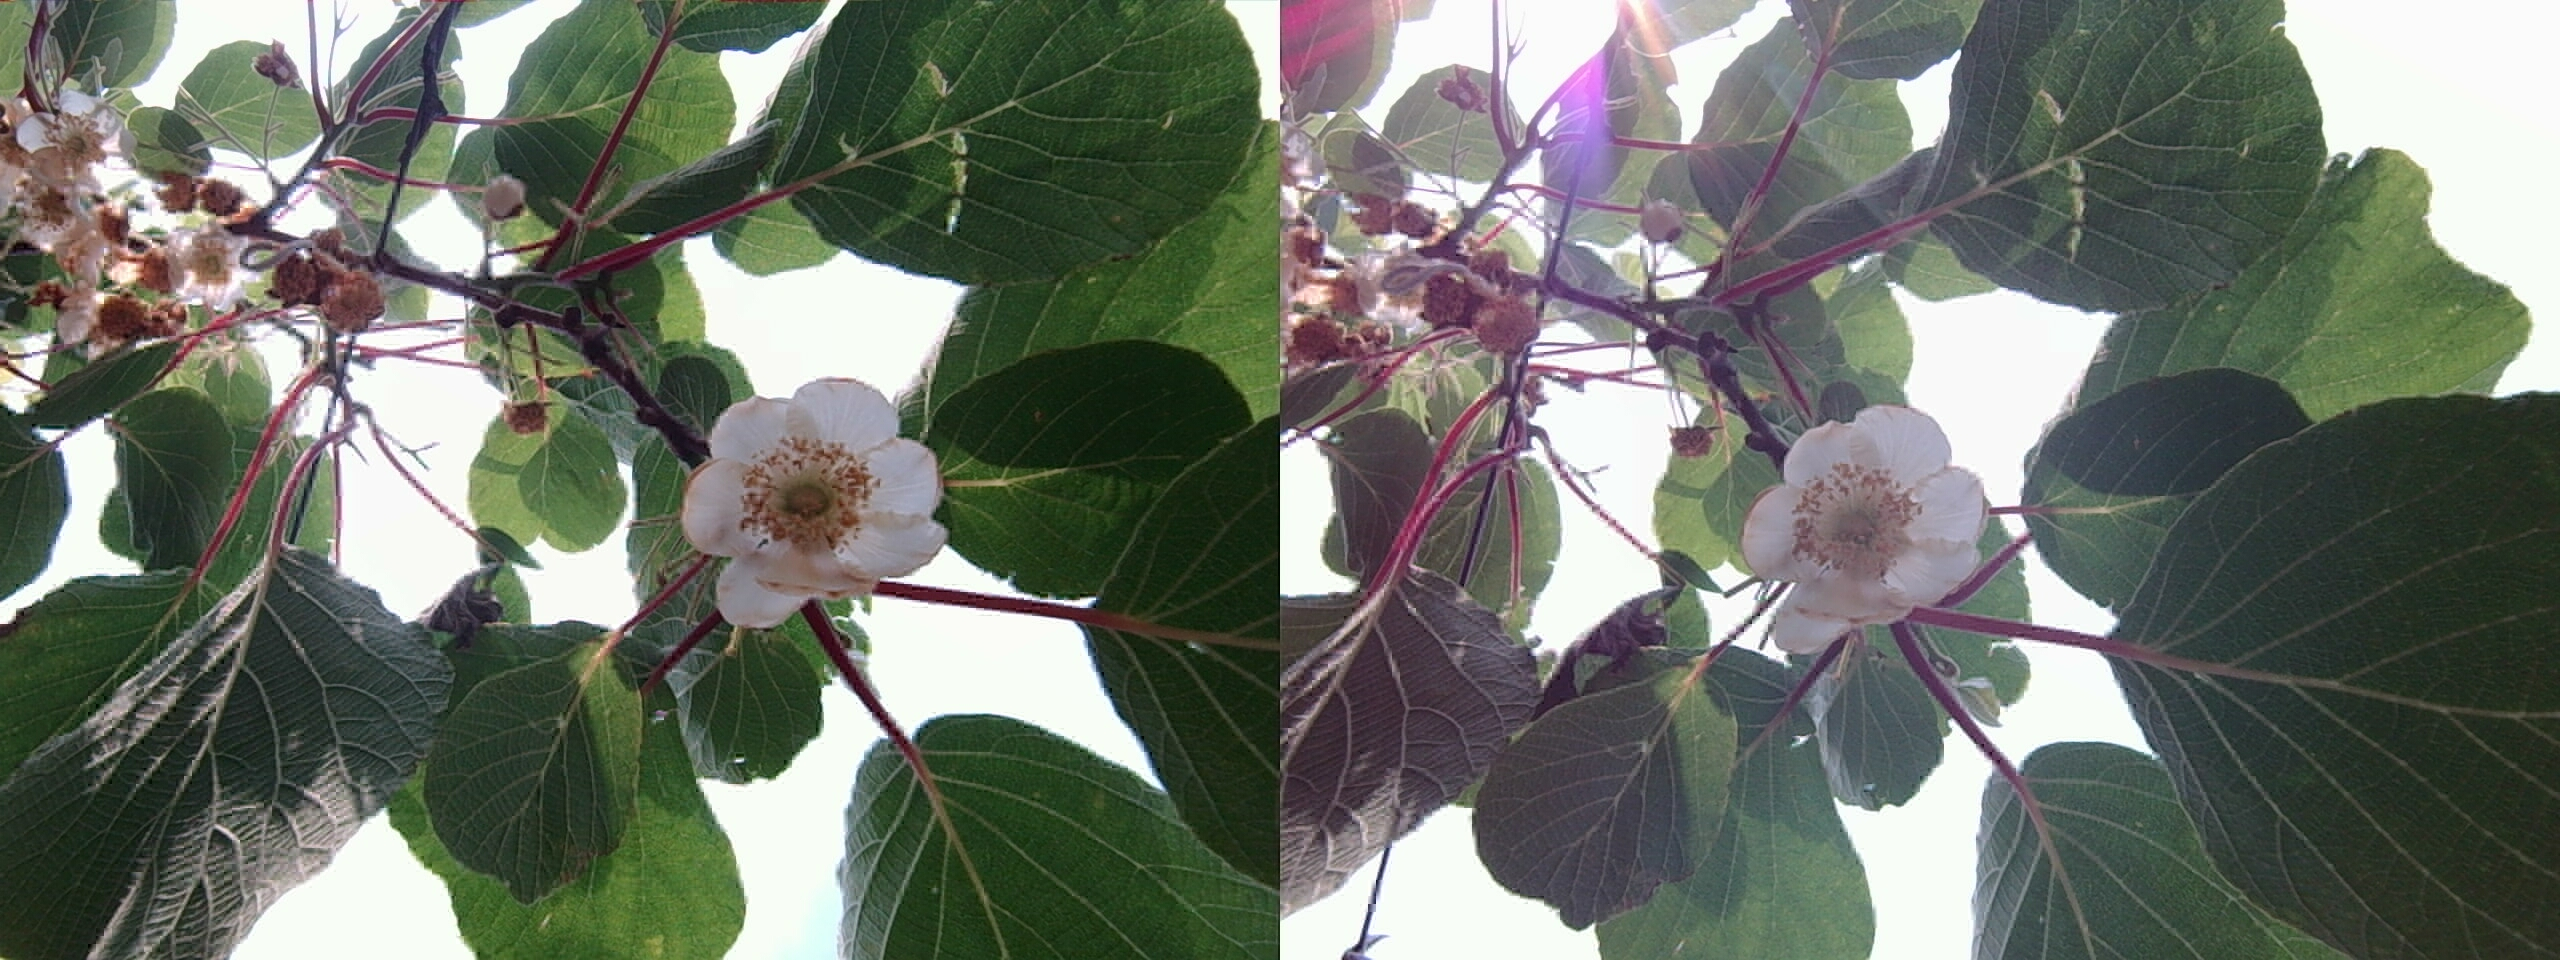flower: (682, 379, 932, 606), (1736, 392, 1982, 620)
